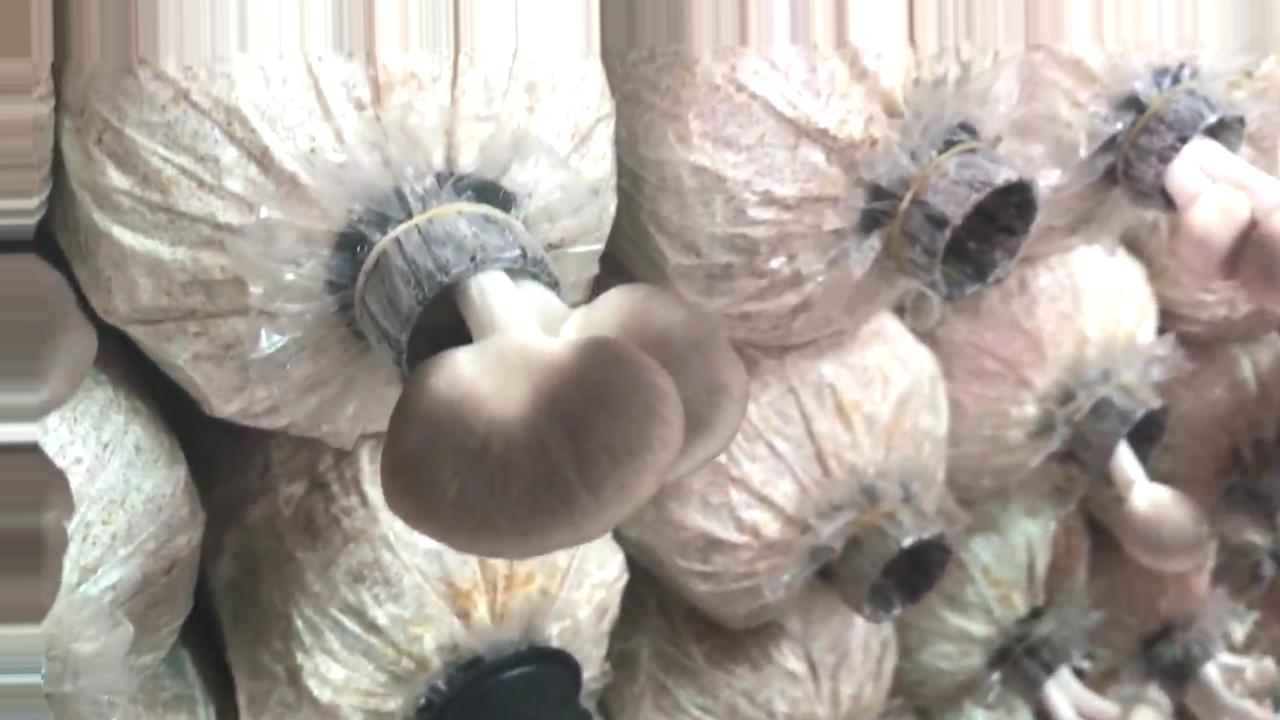nam: (381, 213, 741, 555), (1143, 88, 1280, 305), (1092, 378, 1210, 571)
